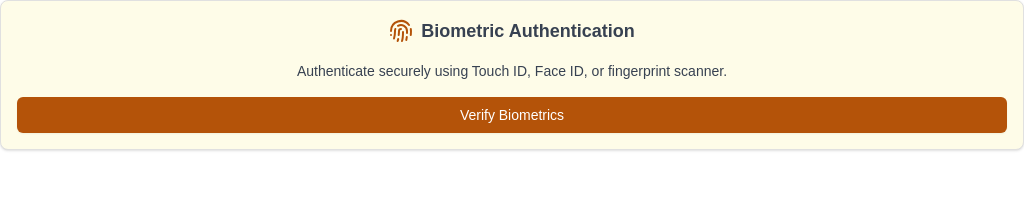
Test: BiometricAuth Component › handles failure mode when biometric authentication is not supported
What coordinates should you click on to do the following:
click the button "Verify Biometrics"
I would click on:
 (512, 115)
Its box is [17,97,1007,133].
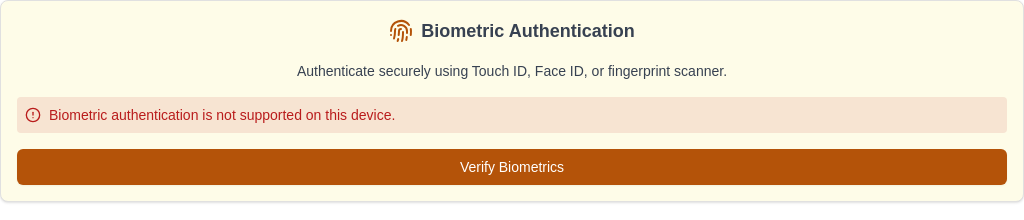
expect the text "Biometric authentication is not supported on this device." is shown: met, box [49,105,395,125]
